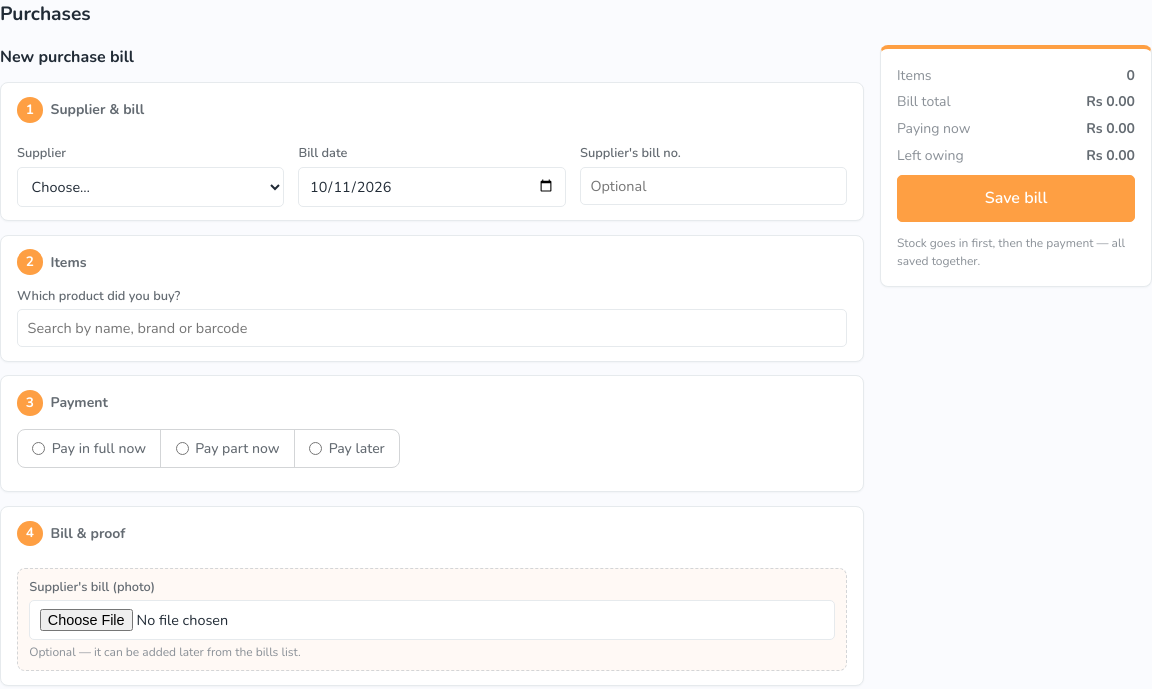
Test: buying a product that does not exist yet › opens the same product form the Products screen uses
This screenshot has width=1152, height=689.
Step 1. Type "Wireless Charger" into the field labelled "Which product did you buy?" → (432, 328), box 17,309 -> 847,347
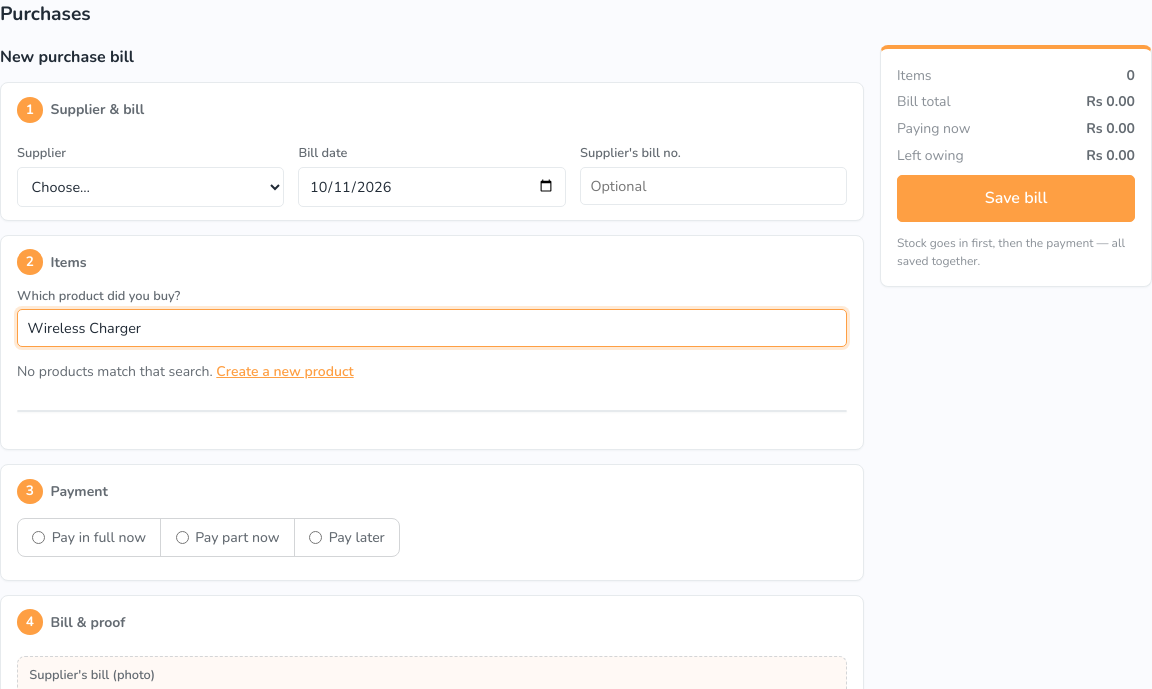
Now the text "No products match that search. Create a new product" is shown, box 17,361 -> 354,382
Step 2. Click the button "Create a new product" → (285, 372), box 216,361 -> 354,382
(page scrolled)
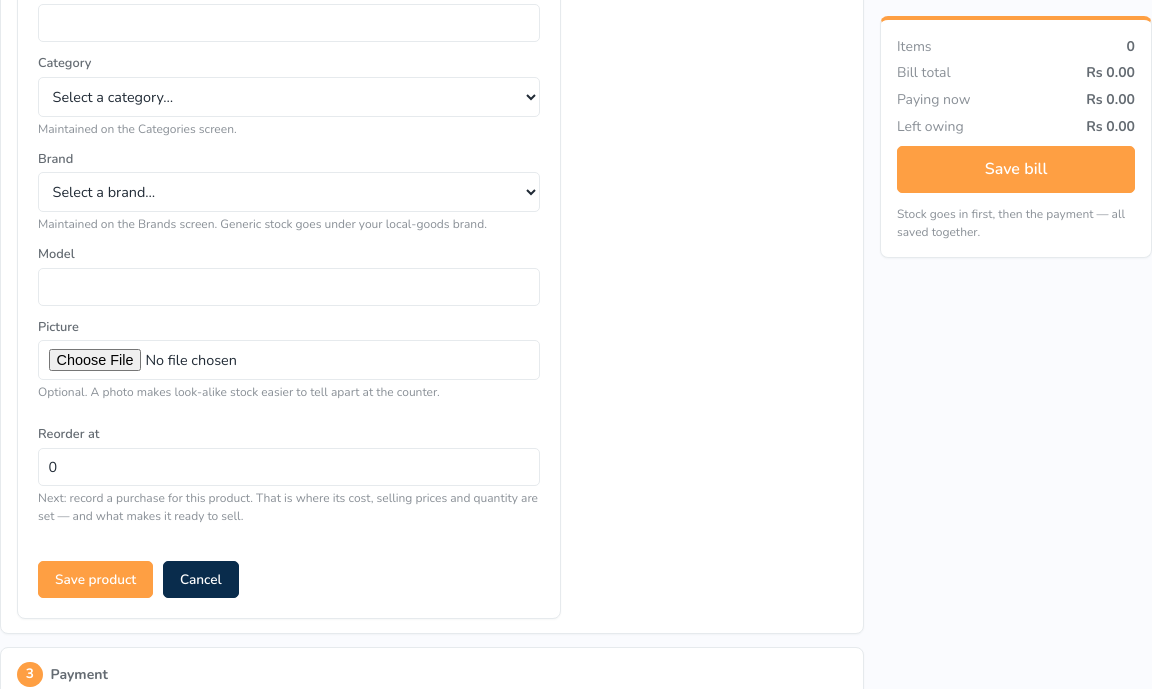
Now the field labelled "Name" is shown, box 38,4 -> 540,42
Now the dropdown labelled "Category" is shown, box 38,77 -> 540,117
Now the dropdown labelled "Brand" is shown, box 38,172 -> 540,212
